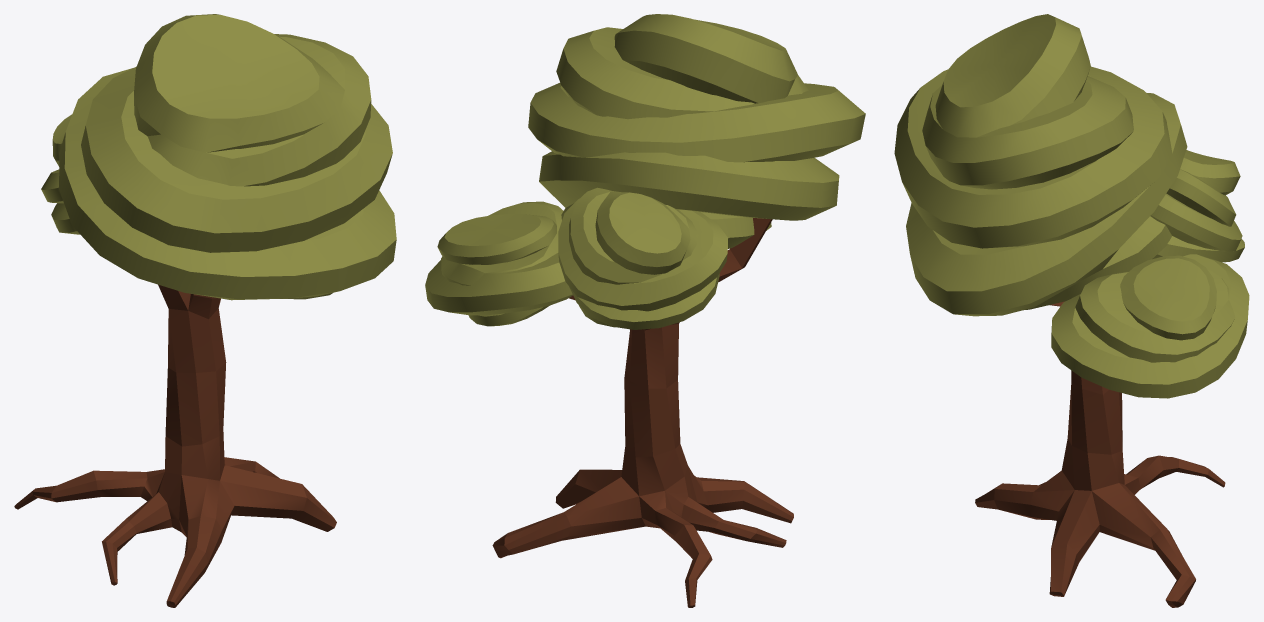
File: Oak.fbx
The picture shows the model from 3 angles, left to right: view 1: azimuth 30°, elevation 25°; view 2: azimuth 150°, elevation 25°; view 3: azimuth 270°, elevation 25°; orthographic projection. The views are drawn at different scales.
Visible parts, largest first — view 1: Oak; view 2: Oak; view 3: Oak.
Boxes of the visible parts, x1,y1,x2,y2 form: Oak: (14,14,396,607); Oak: (425,14,865,607); Oak: (894,14,1249,607).
Bounding box in the file's own units: 12.27 × 18.59 × 11.48.
Materials: 1 (1 with a texture image).
